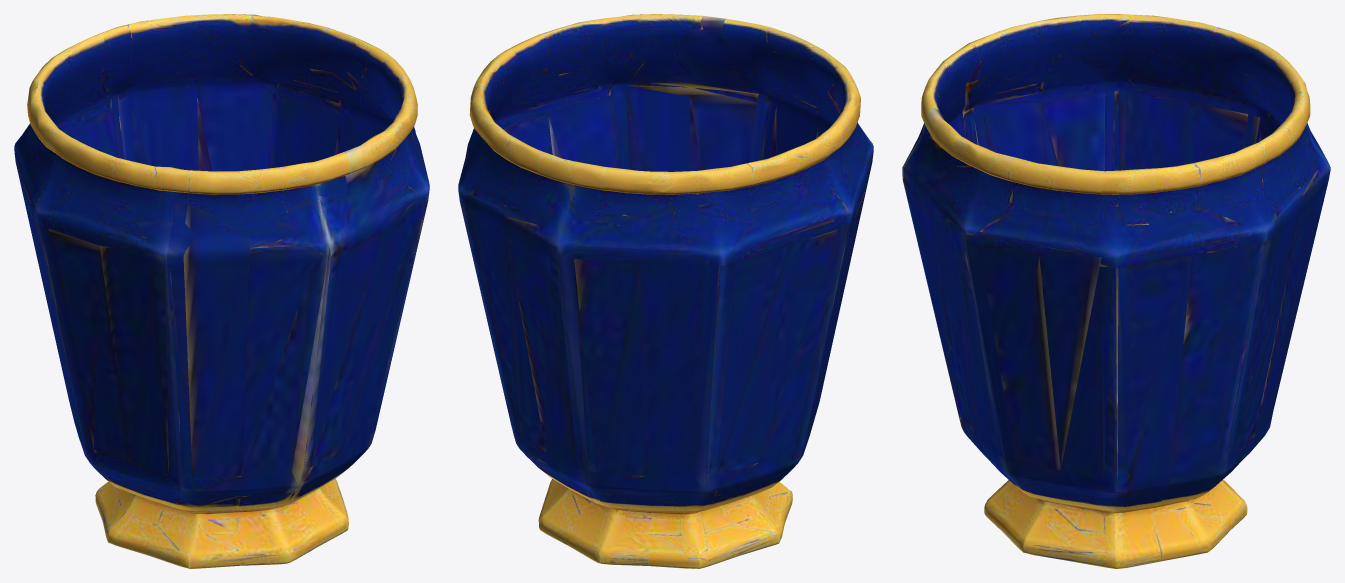
File: Meshy_AI_blue_faceted_cup_1109192249_texture.glb
3 renders of one model, left to right at view 1: azimuth 30°, elevation 25°; view 2: azimuth 150°, elevation 25°; view 3: azimuth 270°, elevation 25°, orthographic.
Parts seen in each view (by area): view 1: geometry_0; view 2: geometry_0; view 3: geometry_0.
Boxes of the visible parts, x1,y1,x2,y2 form: geometry_0: [14, 14, 429, 568]; geometry_0: [458, 14, 873, 568]; geometry_0: [902, 14, 1330, 568].
Bounding box in the file's own units: 0.8735 × 0.9517 × 0.875.
1 material, 1 textured.
